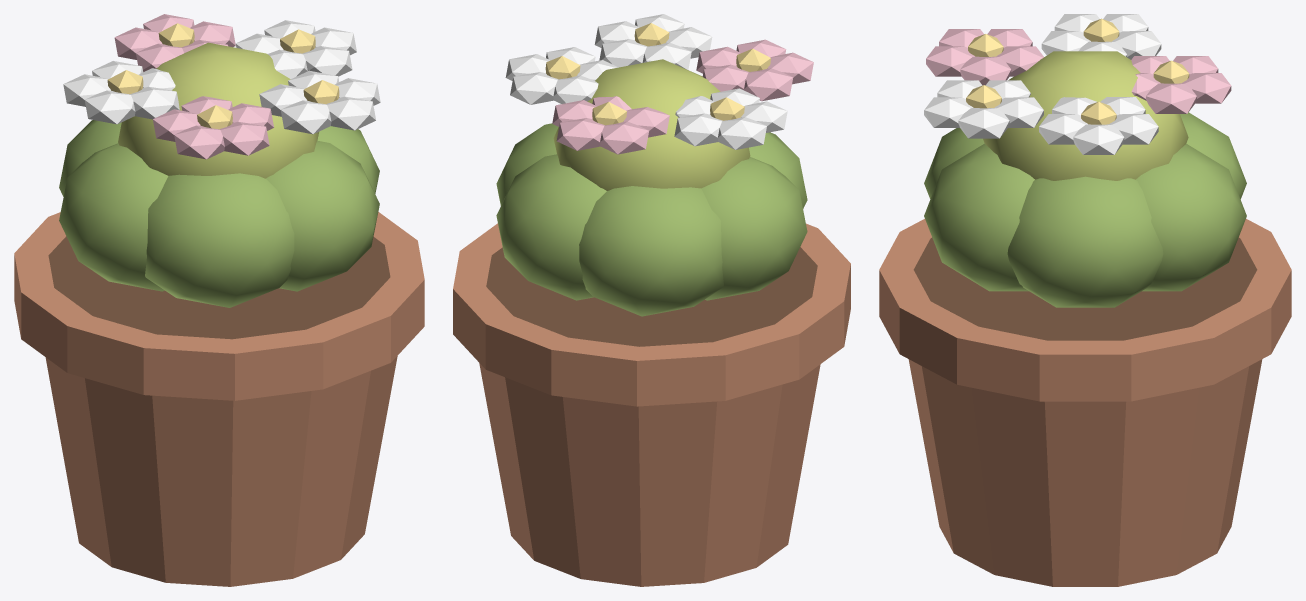
3 views of the same model, side by side, from view 1: azimuth 30°, elevation 25°; view 2: azimuth 150°, elevation 25°; view 3: azimuth 270°, elevation 25° (orthographic). The views are drawn at different scales.
Parts seen in each view (by area): view 1: Deco flower_pot; view 2: Deco flower_pot; view 3: Deco flower_pot.
Boxes of the visible parts, x1,y1,x2,y2 form: Deco flower_pot: (14, 14, 424, 586); Deco flower_pot: (453, 14, 850, 586); Deco flower_pot: (879, 14, 1291, 586).
Size of the model in its own units: 0.6551 by 0.8428 by 0.672.
